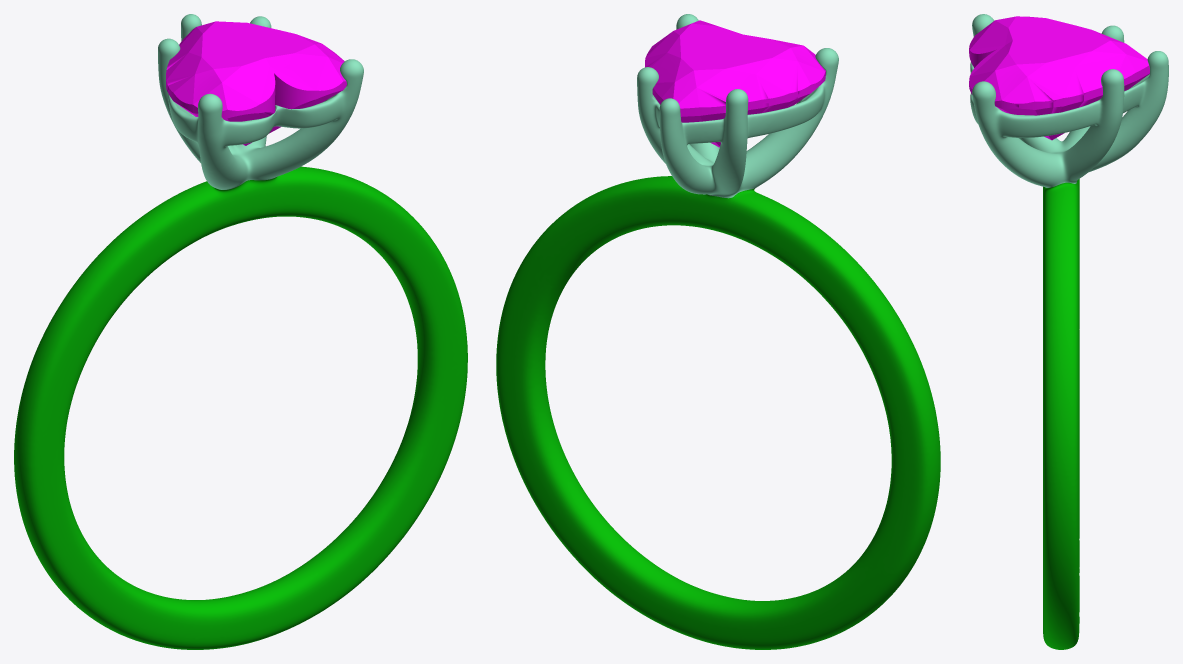
Rendered from BE14873_HT_200ct_RENDER.glb.
The picture shows the model from 3 angles, left to right: view 1: azimuth 30°, elevation 25°; view 2: azimuth 150°, elevation 25°; view 3: azimuth 270°, elevation 25°; orthographic projection. The views are drawn at different scales.
Visible parts, largest first — view 1: Metal 01, CS_Diamond_Heart, Metal 02; view 2: Metal 01, Metal 02, CS_Diamond_Heart; view 3: Metal 01, Metal 02, CS_Diamond_Heart.
Boxes of the visible parts, box(x1,y1,x2,y2) form: Metal 01: box(14, 166, 467, 649); CS_Diamond_Heart: box(166, 21, 346, 145); Metal 02: box(158, 14, 363, 189); Metal 01: box(496, 176, 940, 649); Metal 02: box(637, 14, 838, 198); CS_Diamond_Heart: box(645, 20, 825, 147); Metal 01: box(1043, 179, 1079, 649); Metal 02: box(970, 14, 1168, 187); CS_Diamond_Heart: box(969, 16, 1149, 140).
Bounding box in the file's own units: 20.48 × 26.38 × 8.15.
